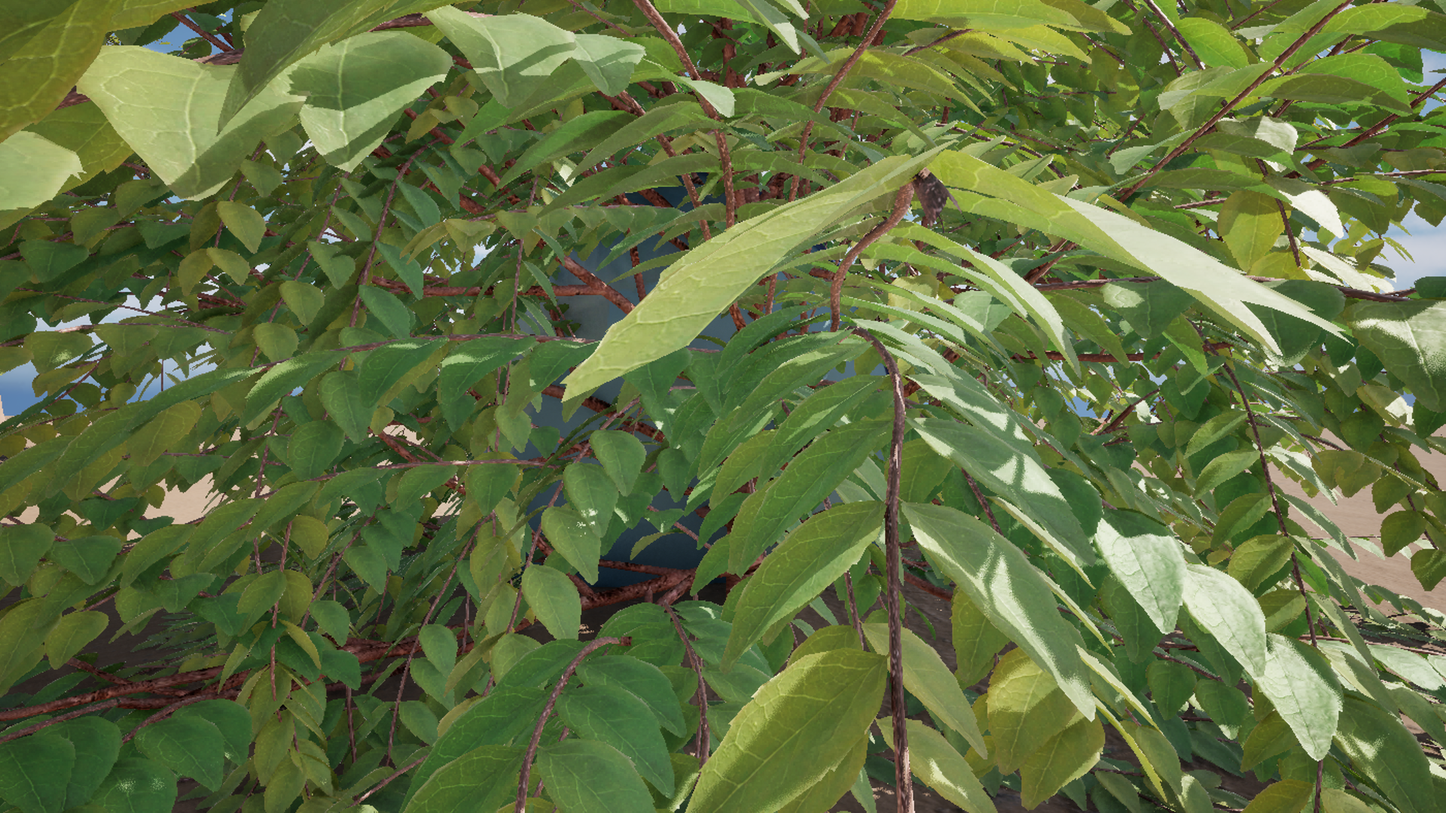Piplup: (307, 0, 1061, 813)
